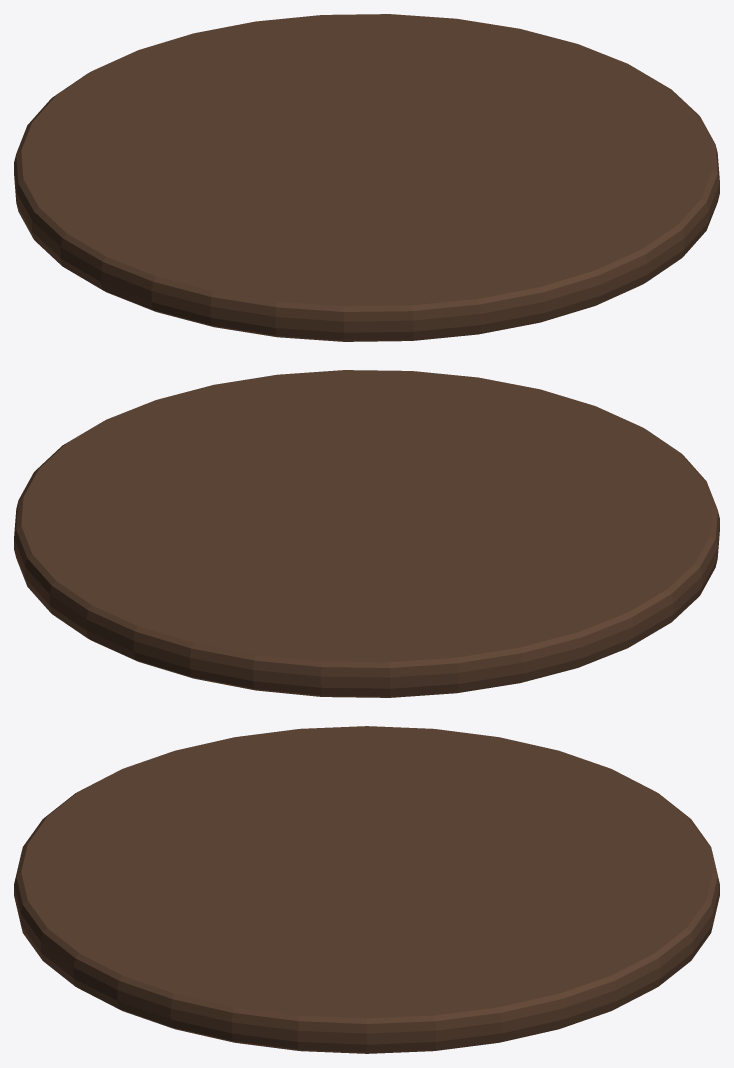
Rendered from Tagliere 2.fbx.
The picture shows the model from 3 angles, top to bottom: view 1: azimuth 30°, elevation 25°; view 2: azimuth 150°, elevation 25°; view 3: azimuth 270°, elevation 25°; orthographic projection.
Visible parts, largest first — view 1: Cutter plan.003; view 2: Cutter plan.003; view 3: Cutter plan.003.
Part boxes in pixels (bbox=[...]): Cutter plan.003: bbox=[14, 14, 719, 341]; Cutter plan.003: bbox=[14, 370, 719, 697]; Cutter plan.003: bbox=[14, 726, 719, 1053].
Bounding box in the file's own units: 78.18 × 4.35 × 78.18.
